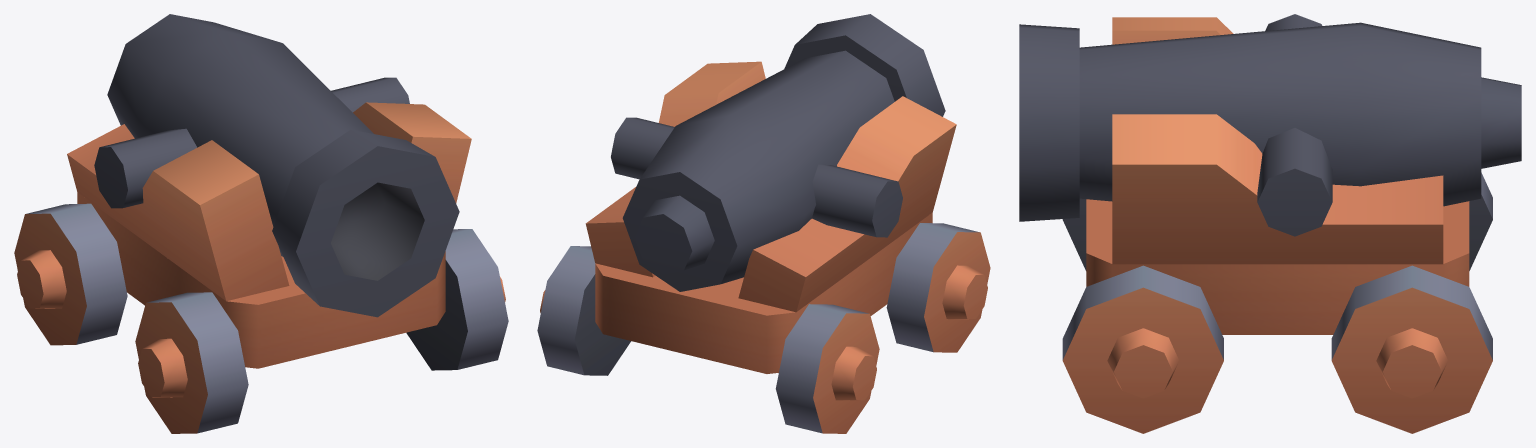
File: k-pirate-cannon-mobile.glb
3 views of the same model, side by side, from view 1: azimuth 30°, elevation 25°; view 2: azimuth 150°, elevation 25°; view 3: azimuth 270°, elevation 25° (orthographic). The views are drawn at different scales.
Visible parts, largest first — view 1: cannon-mobile, Group (×2); view 2: cannon-mobile, Group (×2); view 3: cannon-mobile, Group (×2).
Part boxes in pixels (left/top/right/bottom): cannon-mobile: left=14, top=14, right=508, bottom=433; Group (×2): left=67, top=102, right=471, bottom=301; cannon-mobile: left=537, top=14, right=990, bottom=433; Group (×2): left=585, top=61, right=956, bottom=312; cannon-mobile: left=1019, top=14, right=1521, bottom=433; Group (×2): left=1112, top=17, right=1443, bottom=264.
Bounding box in the file's own units: 1.68 × 1.38 × 1.92.
1 material, 1 textured.
